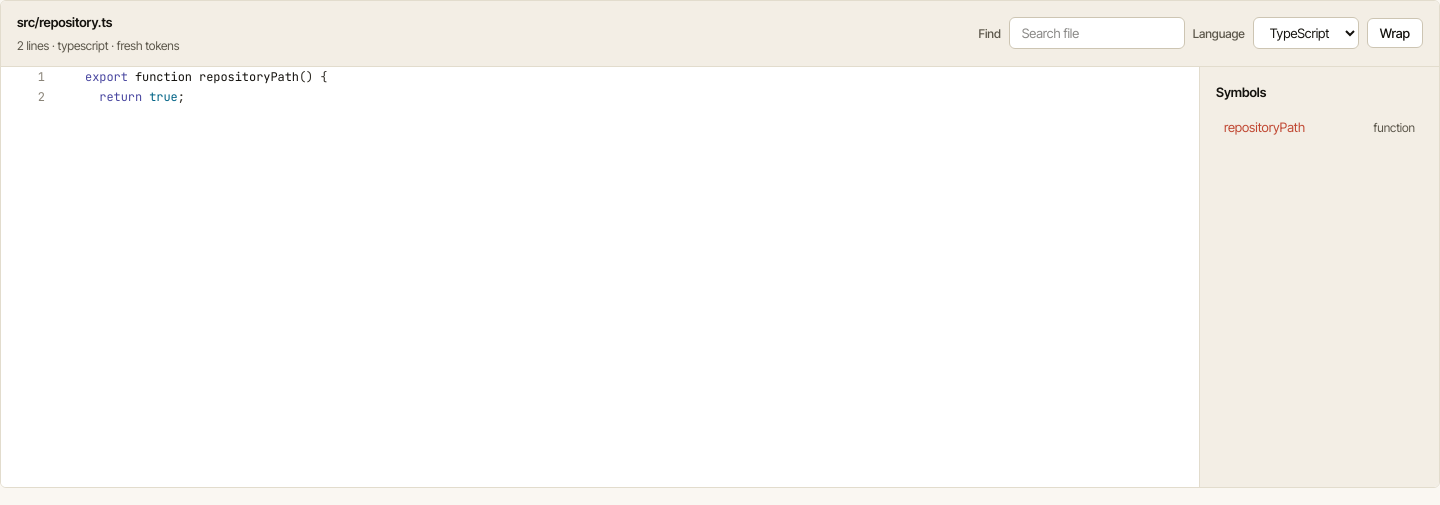
it: syntax highlighting UI › requests fresh tokens when language override changes
The image size is (1440, 505).
Select "Rust" in the dropdown labelled "Language" at (1306, 33), box x1=1253 y1=17 x2=1359 y2=49
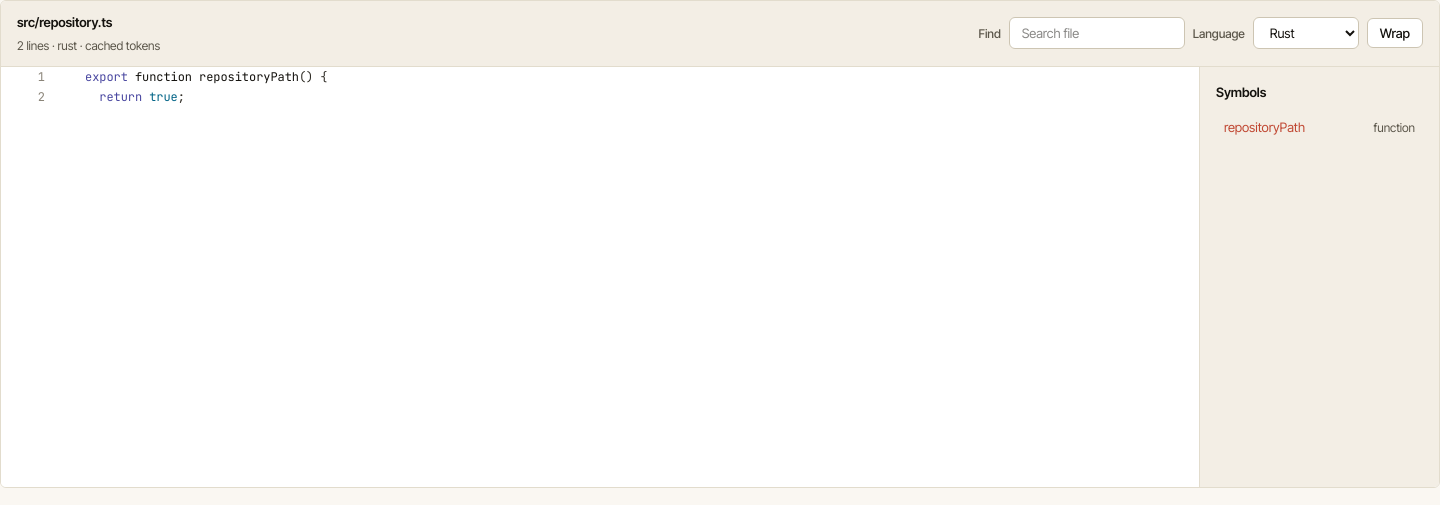
Expected: the text "2 lines · rust · cached tokens" is shown, x1=17 y1=36 x2=160 y2=54
